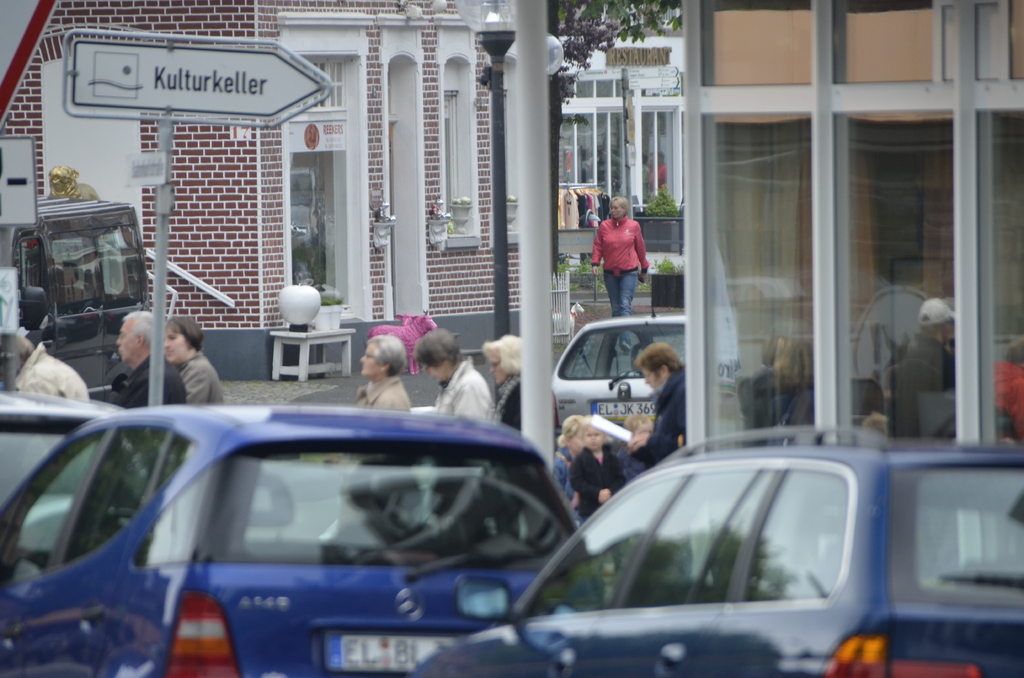license plate: (590, 396, 656, 418)
